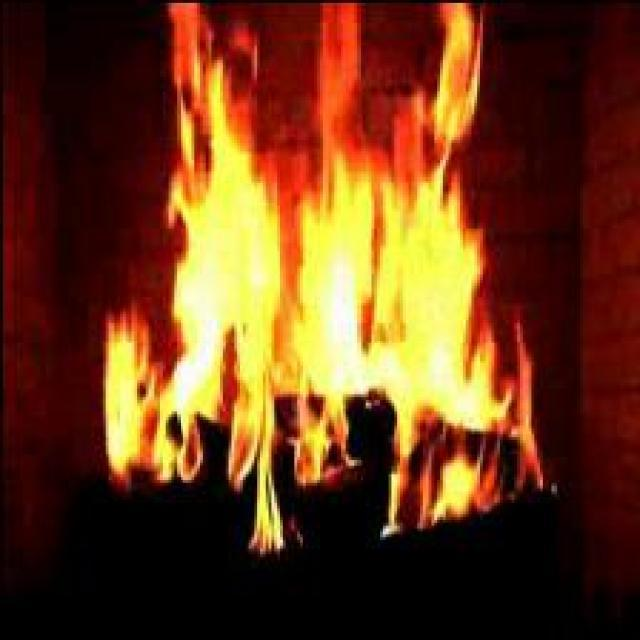Fire: (103, 2, 542, 558)
